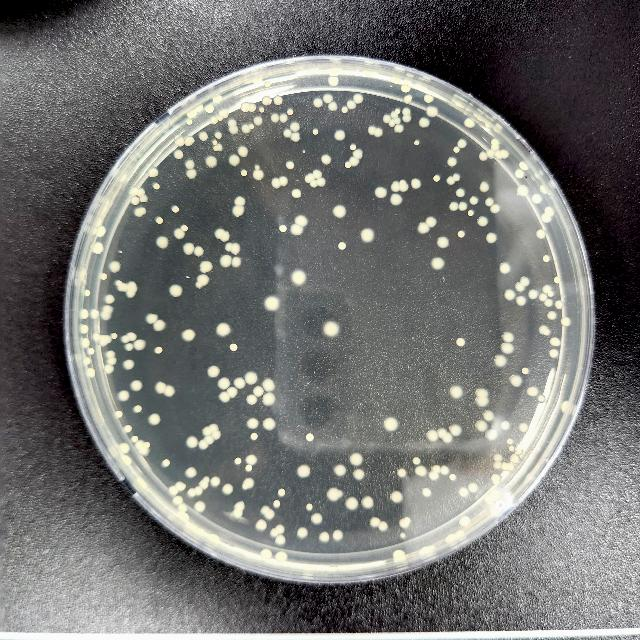colony: (323, 321, 339, 337), (264, 296, 280, 312), (360, 227, 376, 243), (383, 416, 399, 432), (292, 268, 306, 286), (333, 204, 347, 220), (449, 384, 463, 400), (431, 256, 445, 270), (262, 392, 276, 406), (297, 464, 311, 478), (349, 452, 363, 466), (494, 354, 508, 368), (217, 322, 231, 336), (294, 215, 308, 228), (156, 237, 170, 250), (391, 491, 404, 504), (290, 224, 304, 236), (374, 186, 388, 198), (263, 378, 275, 392), (262, 418, 276, 430), (501, 342, 515, 354), (510, 374, 522, 388), (474, 419, 488, 431), (200, 260, 212, 274), (170, 284, 182, 298), (182, 329, 196, 341), (217, 377, 231, 389), (474, 397, 490, 407), (418, 222, 430, 234), (437, 236, 449, 248), (390, 194, 402, 206), (220, 255, 232, 267), (245, 372, 257, 384), (246, 394, 258, 406), (334, 464, 346, 476), (346, 498, 358, 510), (362, 496, 374, 508), (327, 488, 339, 500), (264, 508, 276, 520), (245, 454, 257, 466), (222, 483, 234, 495), (450, 424, 462, 436), (260, 548, 272, 560), (486, 429, 498, 441), (228, 155, 240, 167), (205, 156, 217, 168), (174, 228, 186, 240), (197, 274, 209, 286), (154, 319, 166, 331), (208, 366, 220, 378), (226, 386, 238, 398), (164, 385, 176, 397), (194, 500, 206, 512), (186, 436, 198, 448), (92, 242, 104, 254), (183, 242, 194, 255), (274, 551, 288, 561), (427, 106, 438, 118), (232, 206, 244, 217), (427, 429, 438, 441), (482, 411, 494, 422), (491, 473, 502, 485), (156, 382, 167, 394), (118, 391, 130, 402), (419, 545, 435, 553), (253, 387, 264, 398), (477, 216, 488, 227), (426, 216, 436, 228), (334, 130, 346, 140), (390, 180, 400, 192), (411, 178, 421, 190), (231, 256, 241, 268), (214, 228, 224, 240), (247, 418, 259, 428), (354, 468, 364, 480), (312, 513, 322, 525), (256, 518, 266, 530), (370, 516, 380, 528), (415, 466, 427, 476), (486, 232, 496, 244), (518, 184, 528, 196), (500, 262, 510, 274), (504, 290, 516, 300), (528, 288, 538, 300), (476, 388, 488, 398), (503, 332, 515, 342), (526, 387, 538, 397), (252, 170, 264, 180), (238, 146, 248, 158), (194, 246, 204, 258), (135, 207, 147, 217), (146, 314, 158, 324), (134, 340, 146, 350), (234, 378, 246, 388), (150, 413, 160, 425), (185, 467, 197, 477), (178, 511, 190, 521), (96, 226, 106, 238), (208, 533, 220, 543), (90, 308, 100, 320), (137, 478, 147, 490), (187, 522, 199, 532), (328, 68, 342, 76), (418, 118, 429, 128), (328, 76, 339, 86), (332, 530, 343, 540), (243, 477, 254, 487), (468, 482, 478, 493), (186, 169, 197, 179), (121, 455, 132, 465), (120, 442, 130, 453), (176, 481, 187, 491), (233, 500, 244, 510), (399, 180, 408, 192), (234, 197, 246, 206), (464, 119, 476, 128), (544, 207, 556, 216), (138, 448, 150, 457), (100, 312, 112, 321), (321, 155, 331, 165), (347, 100, 357, 110), (374, 128, 384, 138), (290, 122, 300, 132), (290, 132, 300, 142), (262, 96, 272, 106), (349, 156, 359, 166), (220, 231, 230, 241), (298, 528, 308, 538), (319, 532, 329, 542), (270, 528, 280, 538), (276, 535, 286, 545), (397, 468, 407, 478), (399, 518, 409, 528), (443, 432, 453, 442), (429, 471, 439, 481), (479, 182, 489, 192), (490, 204, 500, 214), (532, 194, 542, 204), (520, 276, 530, 286), (515, 282, 525, 292), (516, 296, 526, 306), (542, 284, 552, 294), (554, 300, 564, 310), (536, 229, 546, 239), (542, 213, 552, 223), (538, 325, 548, 335), (510, 454, 520, 464), (500, 421, 510, 431), (519, 423, 529, 433), (459, 487, 469, 497), (460, 516, 470, 526), (484, 494, 494, 504), (185, 136, 195, 146), (148, 168, 158, 178), (240, 102, 250, 112), (127, 332, 137, 342), (220, 392, 230, 402), (132, 380, 142, 390), (124, 360, 134, 370), (211, 476, 221, 486), (199, 440, 209, 450), (202, 426, 212, 436), (212, 430, 222, 440), (168, 485, 178, 495), (199, 480, 209, 490), (110, 262, 120, 272), (128, 282, 138, 292), (390, 76, 402, 84), (232, 243, 240, 255), (561, 400, 569, 412), (186, 110, 198, 118), (303, 564, 315, 572), (353, 95, 363, 104), (424, 95, 434, 104), (394, 125, 404, 134), (328, 102, 338, 111), (323, 95, 333, 104), (313, 99, 323, 108), (422, 488, 432, 497), (438, 428, 447, 438), (432, 464, 441, 474), (448, 157, 457, 167), (456, 338, 466, 347), (561, 318, 571, 327), (550, 338, 560, 347), (174, 150, 183, 160), (130, 197, 140, 206), (105, 364, 114, 374), (233, 509, 243, 518), (86, 368, 95, 378), (196, 529, 207, 537), (79, 266, 85, 280), (469, 197, 478, 206), (316, 178, 326, 186), (292, 188, 300, 198), (312, 170, 322, 178), (368, 126, 376, 136), (401, 84, 411, 92), (353, 150, 363, 158), (280, 176, 288, 186), (272, 178, 280, 188), (306, 432, 314, 442), (260, 506, 270, 514), (276, 524, 284, 534), (378, 522, 388, 530), (440, 466, 450, 474), (446, 176, 456, 184), (456, 188, 464, 198), (478, 152, 488, 160), (487, 149, 495, 159), (515, 170, 525, 178), (540, 185, 548, 195), (494, 150, 502, 160), (548, 310, 556, 320), (550, 348, 558, 358), (492, 461, 502, 469), (186, 160, 194, 170), (198, 132, 208, 140), (229, 126, 239, 134), (204, 436, 214, 444), (173, 496, 183, 504), (178, 504, 188, 512), (136, 440, 144, 450), (106, 294, 114, 304), (103, 305, 113, 313), (80, 309, 88, 319), (81, 324, 89, 334), (82, 338, 90, 348), (93, 332, 101, 342), (126, 290, 136, 298), (118, 282, 126, 292), (362, 70, 372, 78), (119, 173, 127, 183), (383, 115, 391, 124), (254, 116, 262, 125), (449, 202, 458, 210), (458, 140, 467, 148), (492, 490, 501, 498), (220, 109, 228, 118), (188, 488, 196, 497), (393, 550, 405, 556), (394, 556, 406, 562), (394, 67, 406, 73), (225, 242, 232, 252), (493, 454, 503, 461), (195, 486, 202, 496), (338, 242, 346, 250), (310, 180, 318, 188), (286, 161, 294, 169), (404, 96, 412, 104), (280, 114, 288, 122), (284, 129, 292, 137), (271, 114, 279, 122), (274, 96, 282, 104), (250, 433, 258, 441), (452, 173, 460, 181), (459, 202, 467, 210), (485, 198, 493, 206), (501, 150, 509, 158), (520, 162, 528, 170), (539, 293, 547, 301), (544, 299, 552, 307), (446, 534, 454, 542), (214, 132, 222, 140), (242, 125, 250, 133), (176, 138, 184, 146), (249, 104, 257, 112), (206, 105, 214, 113), (140, 194, 148, 202), (137, 188, 145, 196), (130, 188, 138, 196), (230, 343, 238, 351), (126, 343, 134, 351), (122, 335, 130, 343), (107, 350, 115, 358), (108, 357, 116, 365), (210, 423, 218, 431), (74, 353, 82, 361), (402, 116, 412, 122), (490, 138, 500, 144), (490, 144, 500, 150), (228, 120, 238, 126), (364, 60, 374, 66), (550, 179, 556, 189), (100, 206, 106, 216), (245, 464, 252, 472), (240, 170, 248, 177), (195, 105, 203, 112), (163, 458, 170, 466), (508, 462, 514, 471), (502, 462, 508, 471), (449, 474, 456, 481), (280, 225, 286, 233), (304, 175, 310, 183), (402, 108, 410, 114), (390, 112, 398, 118), (389, 119, 395, 127), (254, 78, 262, 84), (278, 488, 284, 496), (338, 489, 344, 497), (234, 458, 242, 464), (413, 458, 421, 464), (458, 230, 464, 238), (554, 276, 560, 284), (544, 328, 550, 336), (538, 395, 544, 403), (506, 438, 514, 444), (456, 531, 464, 537), (217, 143, 223, 151), (182, 224, 188, 232), (156, 217, 164, 223), (172, 206, 180, 212), (210, 118, 218, 124), (214, 96, 222, 102), (156, 346, 162, 354), (134, 406, 142, 412), (116, 410, 122, 418), (126, 425, 132, 433), (100, 274, 108, 280), (88, 347, 94, 355), (105, 335, 111, 343), (420, 85, 428, 91), (96, 218, 102, 226), (423, 76, 431, 82), (526, 472, 532, 480), (74, 278, 80, 286), (98, 409, 104, 417), (308, 173, 314, 180), (274, 499, 280, 506), (434, 175, 441, 181), (543, 255, 549, 262), (195, 282, 202, 288), (350, 144, 356, 150), (345, 162, 351, 168), (312, 129, 318, 135), (414, 140, 420, 146), (342, 107, 348, 113), (395, 118, 401, 124), (394, 108, 400, 114), (287, 109, 293, 115), (306, 504, 312, 510), (400, 532, 406, 538), (405, 516, 411, 522), (242, 484, 248, 490), (454, 147, 460, 153), (468, 210, 474, 216), (548, 291, 554, 297), (522, 368, 528, 374), (516, 449, 522, 455), (154, 184, 160, 190), (132, 436, 138, 442), (203, 476, 209, 482), (116, 280, 122, 286), (85, 358, 91, 364), (464, 106, 470, 112), (485, 122, 491, 128), (92, 227, 96, 236), (496, 123, 502, 129), (99, 342, 107, 346), (404, 79, 412, 83), (406, 73, 414, 77), (454, 102, 462, 106), (105, 198, 109, 206), (81, 286, 85, 294), (332, 61, 342, 64), (374, 64, 381, 68), (328, 58, 342, 60), (408, 94, 412, 100), (264, 82, 270, 86), (510, 445, 514, 451), (256, 164, 260, 170), (212, 140, 218, 144), (214, 146, 218, 152), (250, 124, 254, 130), (186, 120, 192, 124), (112, 334, 118, 338), (144, 442, 150, 446), (86, 290, 90, 296), (101, 335, 105, 341), (473, 112, 477, 118), (418, 77, 424, 81), (450, 98, 456, 102), (460, 105, 466, 109), (534, 172, 538, 178), (82, 280, 86, 286), (102, 417, 105, 423), (302, 150, 306, 154), (260, 108, 264, 112), (218, 116, 222, 120), (478, 117, 482, 121), (469, 103, 473, 107), (540, 169, 542, 175), (120, 250, 122, 253)
